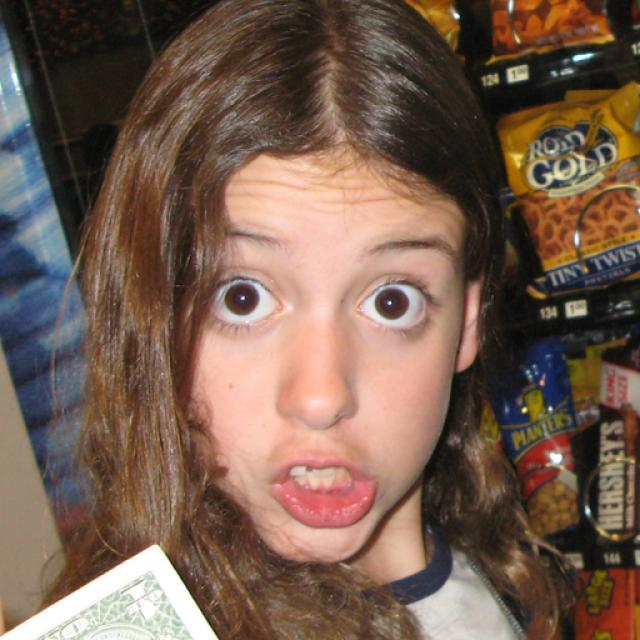surprise: (183, 138, 462, 572)
